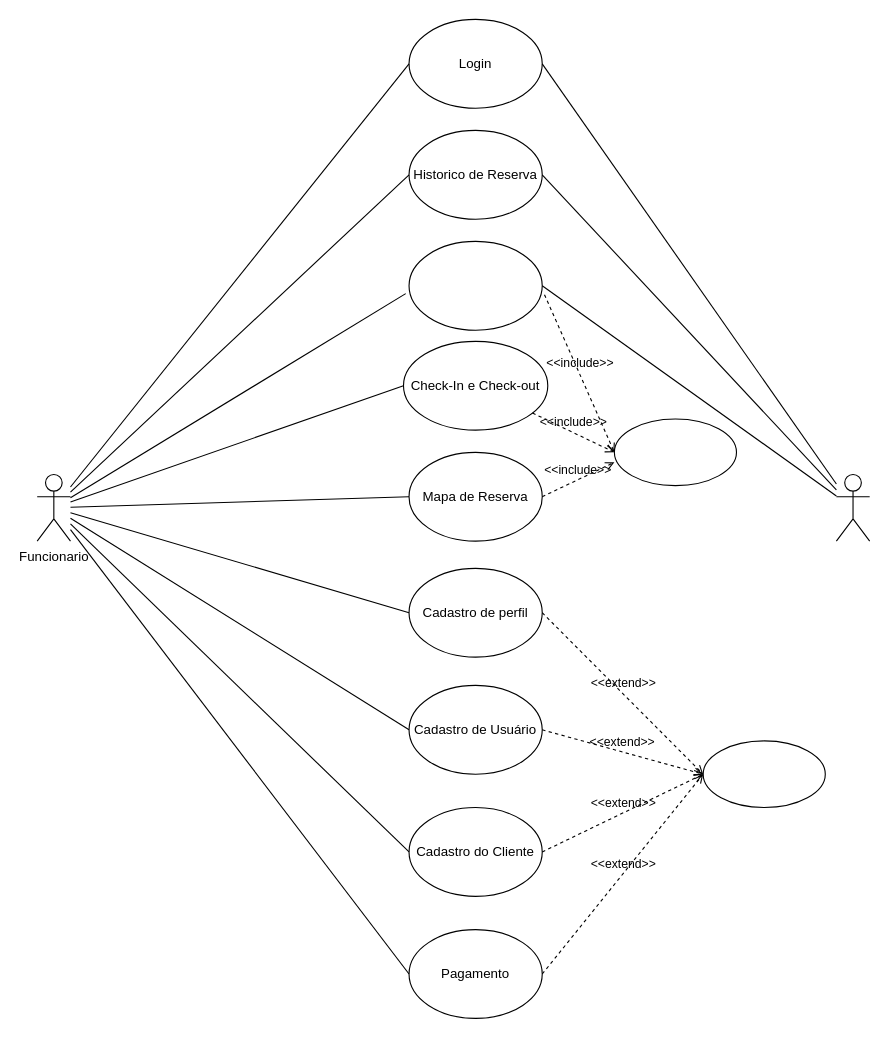
This 892x1038 diagram has some shape labels left out. Here are the shapes that lost their labels. From the top down, the centre of each, then its label:
the point at 475,285: Reservar
the point at 674,452: Consulta de Agenda
the point at 852,507: Cliente
the point at 763,774: CRUD
